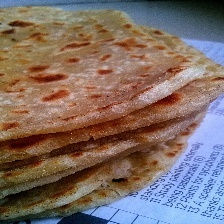roti: (1, 3, 222, 224)
